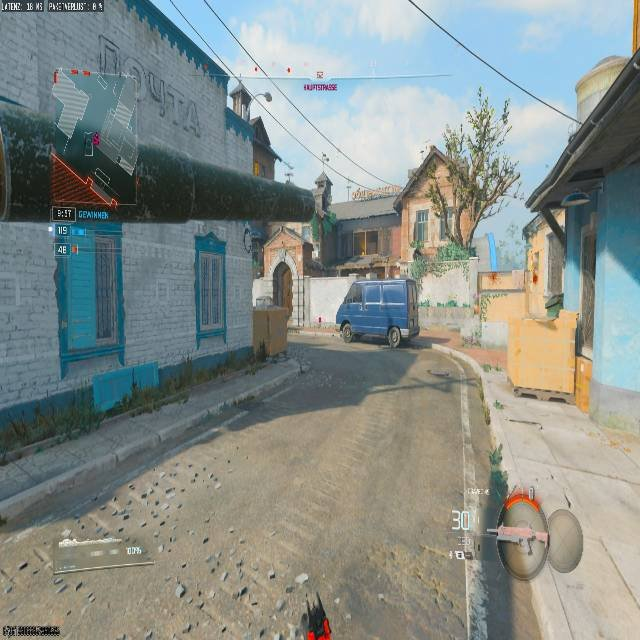player: (383, 321, 404, 348)
